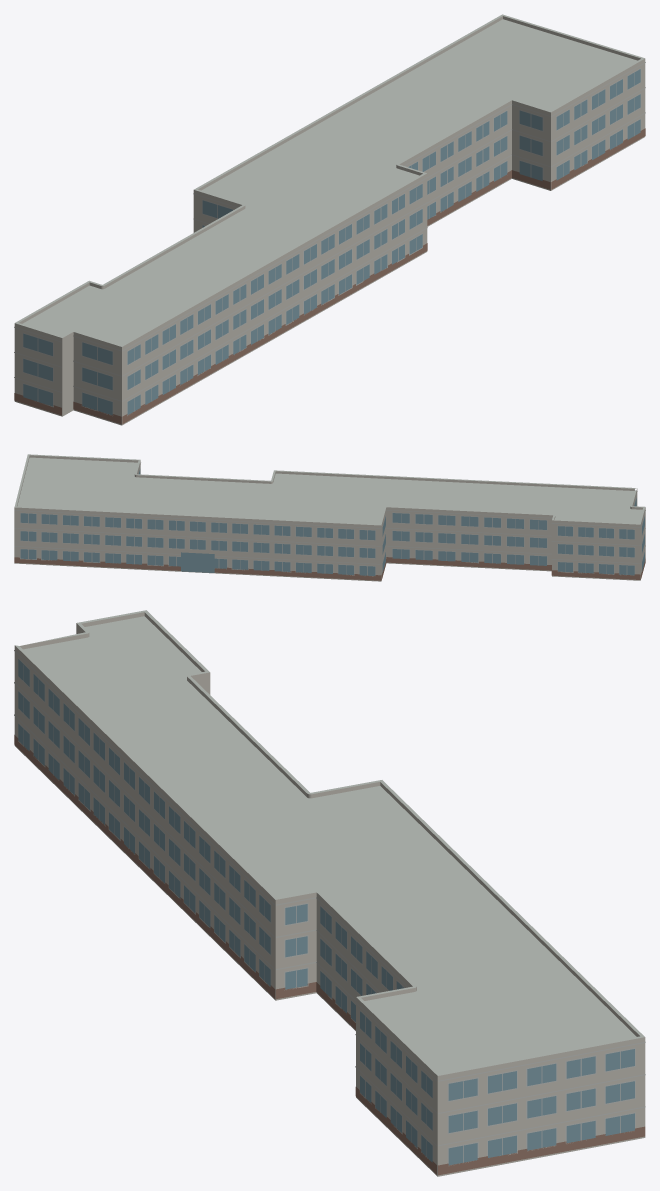
Rendered from public-0e5adb74-833f-45be-b030-bcc42e6a42a9.glb.
3 views of the same model, one above another, from view 1: azimuth 30°, elevation 25°; view 2: azimuth 150°, elevation 25°; view 3: azimuth 270°, elevation 25° (orthographic). The views are drawn at different scales.
Visible parts, largest first — view 1: public-0e5adb74-833f-45be-b030-bcc42e6a42a9; view 2: public-0e5adb74-833f-45be-b030-bcc42e6a42a9; view 3: public-0e5adb74-833f-45be-b030-bcc42e6a42a9.
Part boxes in pixels (x1,y1,x2,y2): public-0e5adb74-833f-45be-b030-bcc42e6a42a9: (14,14,645,425); public-0e5adb74-833f-45be-b030-bcc42e6a42a9: (14,454,645,581); public-0e5adb74-833f-45be-b030-bcc42e6a42a9: (14,610,645,1176).
Bounding box in the file's own units: 90.85 × 9.15 × 52.
